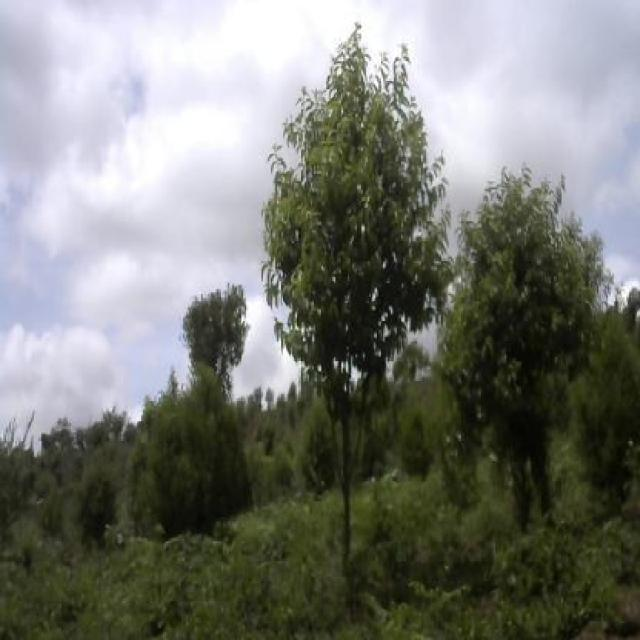tree trunk: (310, 89, 372, 577), (489, 188, 553, 540), (181, 292, 245, 518)
